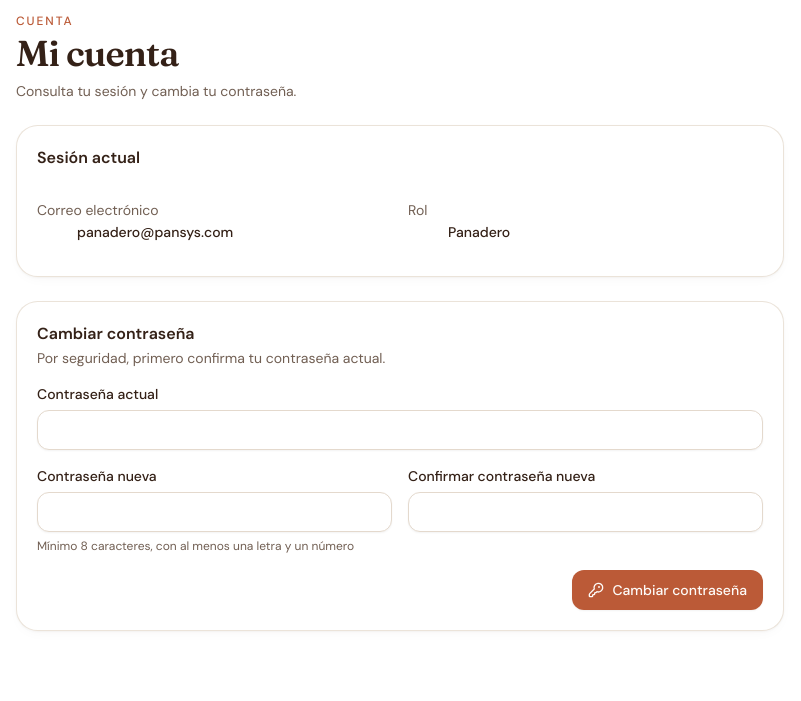
un panadero cambia su contraseña con PATCH /api/auth/contrasena
The width and height of the screenshot is (801, 701).
Check: the text "panadero@pansys.com" is shown, box [77, 223, 233, 241]
Type "Anterior2025" into the password field labelled "Contraseña actual". click: point(400, 430)
box: [37, 410, 763, 450]
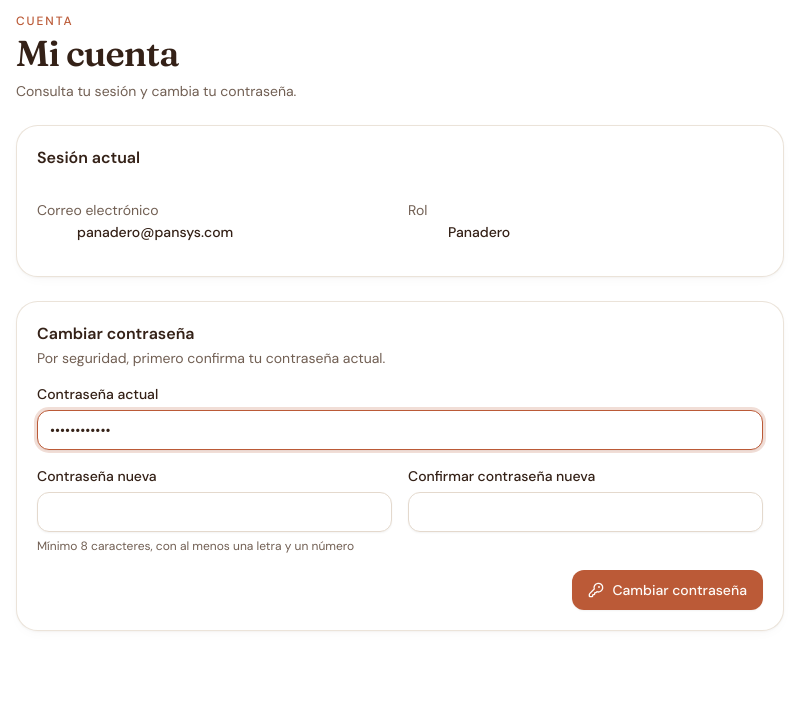
Type "Nueva2026" into the password field labelled "Contraseña nueva". click: point(214, 512)
box: [37, 492, 392, 532]
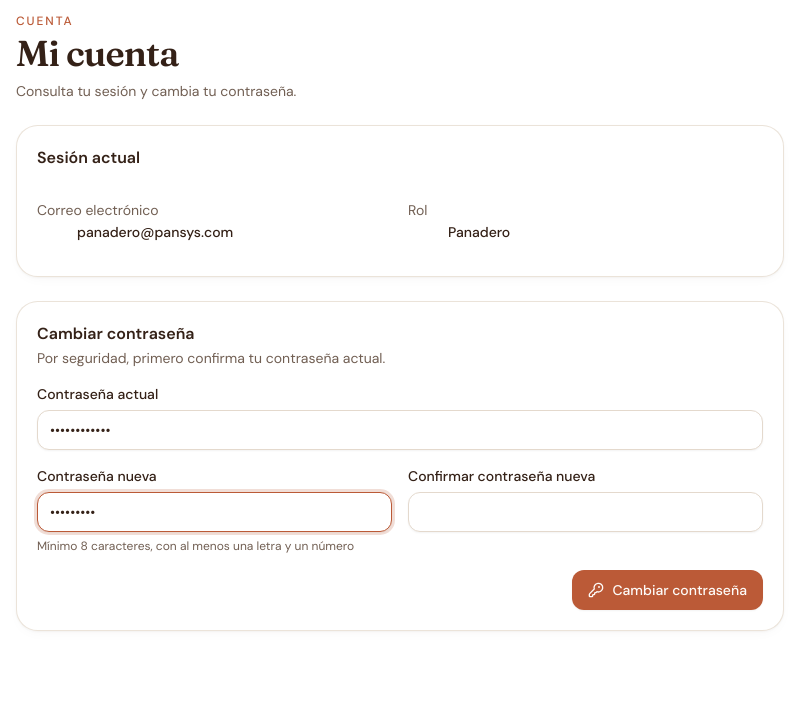
Type "Nueva2026" into the password field labelled "Confirmar contraseña nueva". click: point(586, 512)
box: [408, 492, 763, 532]
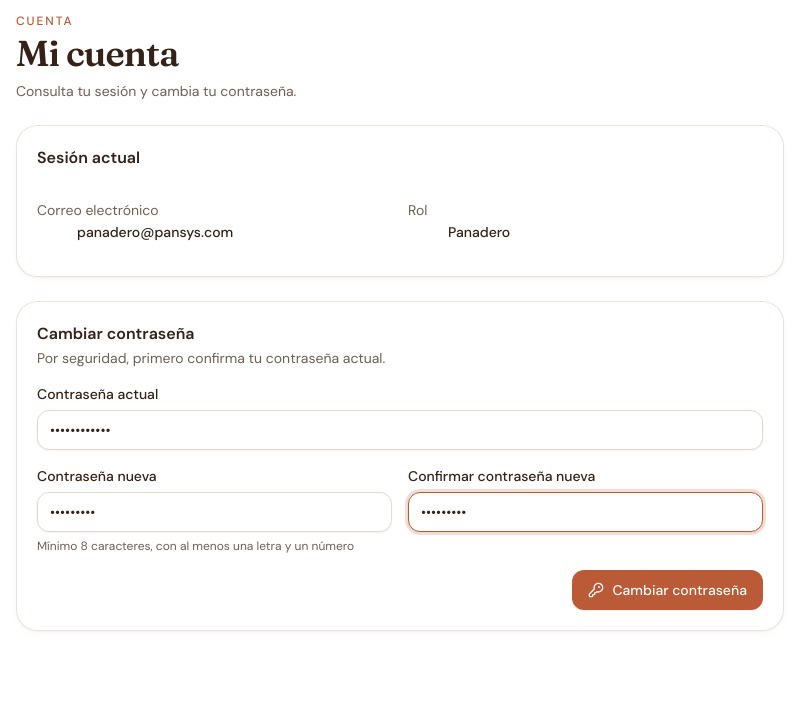
Click the button "Cambiar contraseña". click: point(668, 590)
box: [572, 570, 763, 610]
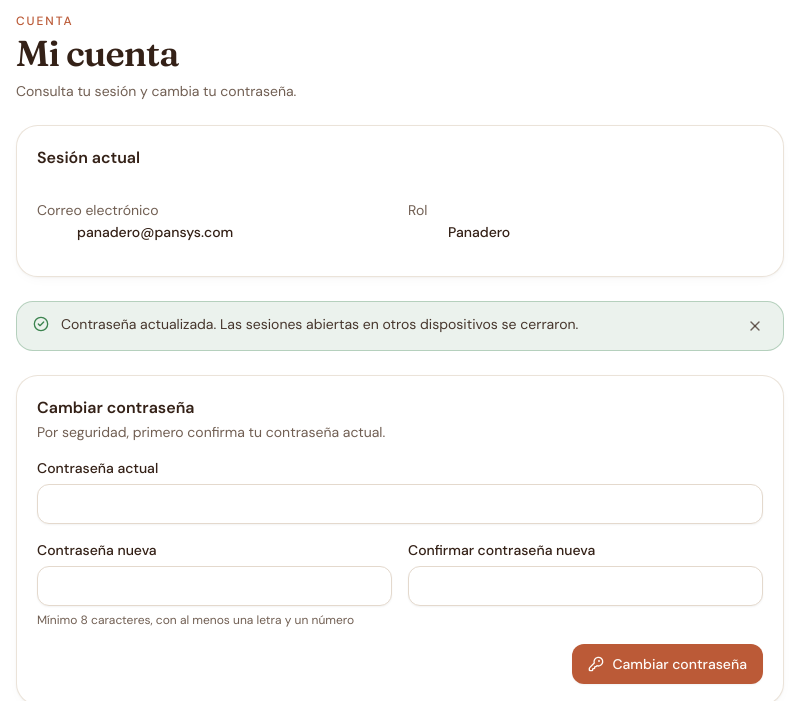
Check: the password field labelled "Contraseña nueva" is empty, box [37, 566, 392, 606]
Check: the text "Contraseña actualizada. Las sesiones abiertas en otros dispositivos se cerraron." is shown, box [61, 315, 578, 333]
Check: the password field labelled "Contraseña actual" is empty, box [37, 484, 763, 524]
